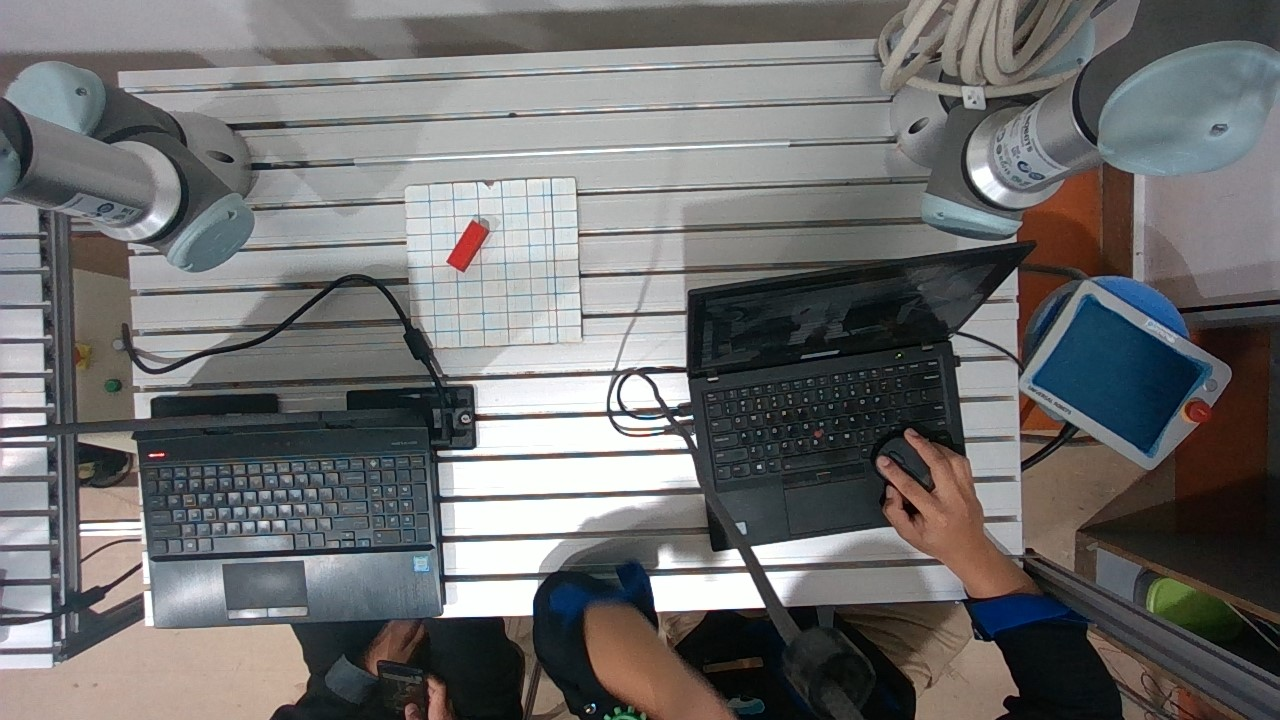box: (454, 213, 491, 279)
